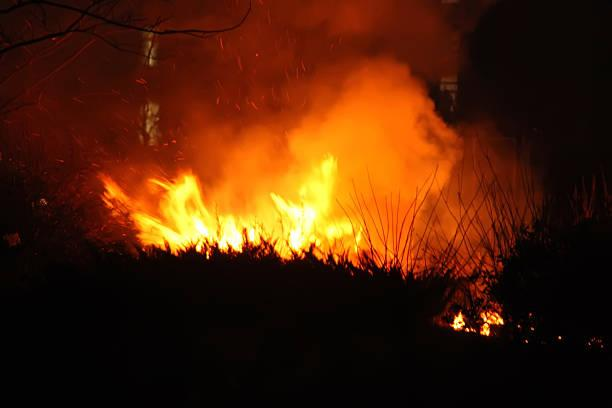Fire: (159, 184, 364, 248)
